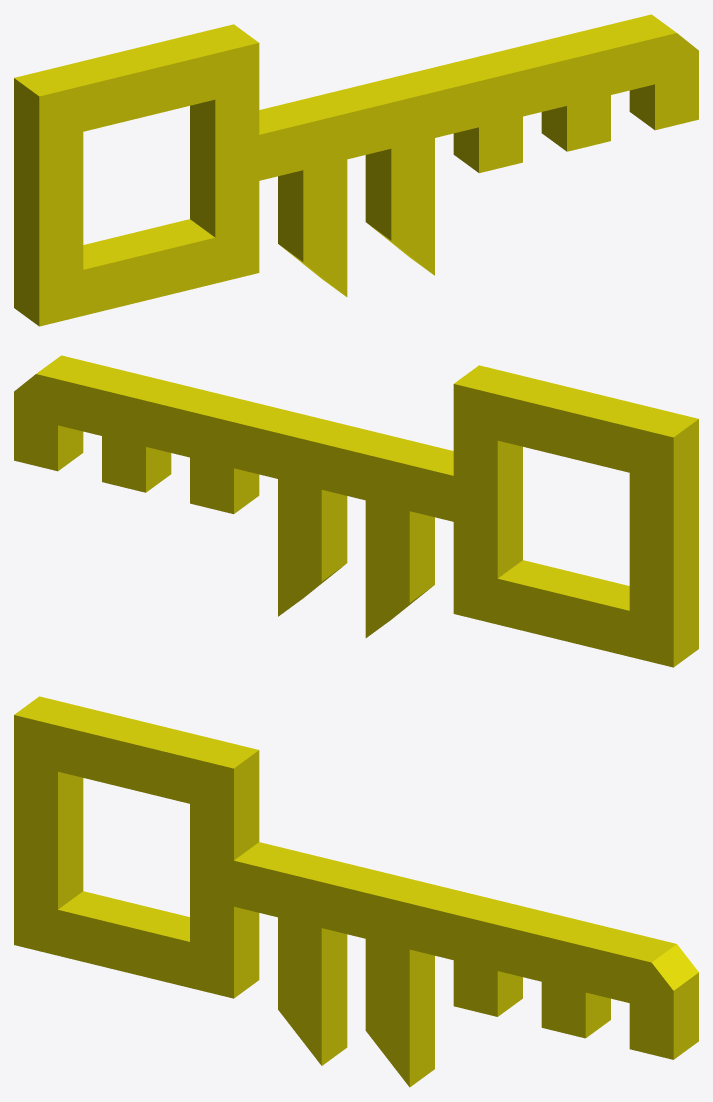
Rendered from Items.fbx_Key_24.fbx.
The picture shows the model from 3 angles, top to bottom: view 1: azimuth 30°, elevation 25°; view 2: azimuth 150°, elevation 25°; view 3: azimuth 330°, elevation 25°; orthographic projection.
Visible parts, largest first — view 1: Key 24; view 2: Key 24; view 3: Key 24.
Boxes of the visible parts, x1=… form: Key 24: x1=14, y1=14, x2=698, y2=326; Key 24: x1=14, y1=355, x2=698, y2=667; Key 24: x1=14, y1=696, x2=698, y2=1087.
Size of the model in its own units: 30 by 12 by 2.
